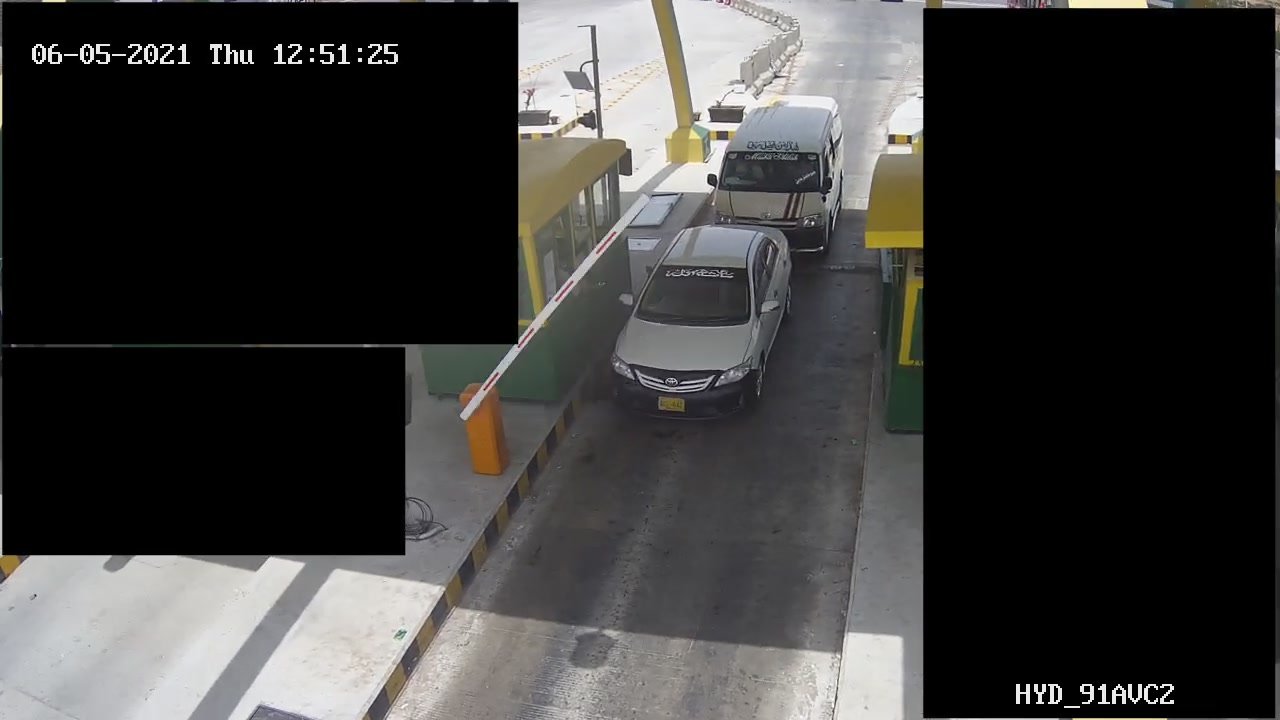F1: (610, 220, 792, 414)
F2: (701, 90, 844, 254)
